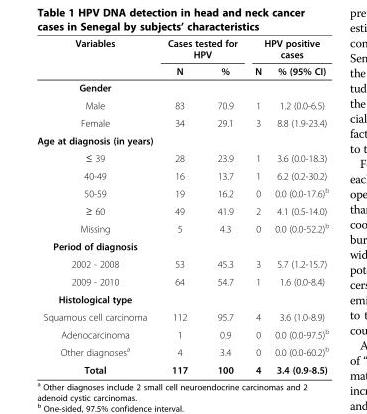table: (36, 37, 328, 375)
table column: (36, 37, 159, 375), (267, 37, 328, 375), (201, 37, 245, 375), (159, 37, 201, 375), (245, 37, 267, 375)
table column header: (36, 37, 328, 79)
table projected row header: (36, 79, 328, 96), (36, 131, 328, 148), (36, 237, 328, 254), (36, 290, 328, 307)
table row: (36, 37, 328, 62), (36, 218, 328, 237), (36, 113, 328, 131), (36, 148, 328, 166), (36, 183, 328, 201), (36, 254, 328, 272), (36, 272, 328, 290), (36, 324, 328, 342), (36, 342, 328, 360), (36, 62, 328, 79), (36, 79, 328, 96), (36, 96, 328, 113), (36, 131, 328, 148), (36, 166, 328, 183), (36, 201, 328, 218), (36, 237, 328, 254), (36, 290, 328, 307), (36, 307, 328, 324), (36, 360, 328, 375)
table spanning cell: (36, 37, 159, 79), (159, 37, 245, 62), (245, 37, 328, 62)
